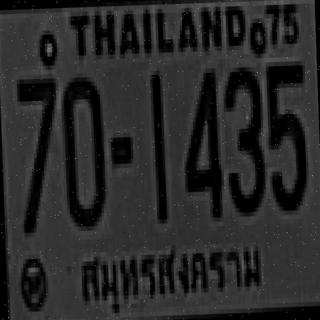N00: (61, 72, 108, 227)
N01: (150, 70, 167, 220), (150, 70, 164, 219)
N03: (222, 62, 264, 212)
N04: (180, 66, 221, 216)
N05: (263, 58, 307, 209)
N07: (14, 74, 60, 228)
P59: (73, 234, 271, 316)
